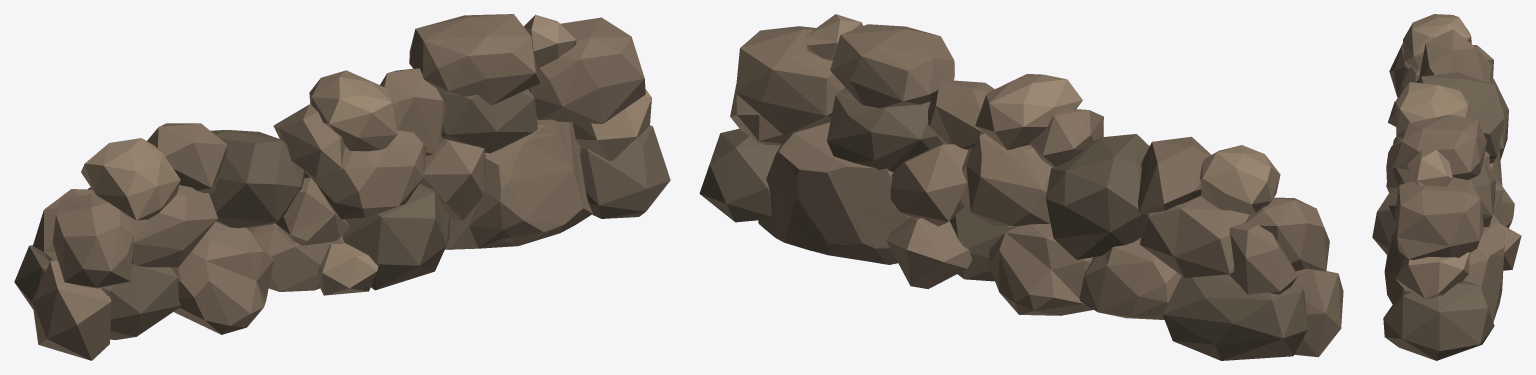
Rendered from Prop_StoneWall_01.glb.
The picture shows the model from 3 angles, left to right: view 1: azimuth 30°, elevation 25°; view 2: azimuth 150°, elevation 25°; view 3: azimuth 270°, elevation 25°; orthographic projection. The views are drawn at different scales.
Visible parts, largest first — view 1: SM_Prop_Stonewall_01_LOD0; view 2: SM_Prop_Stonewall_01_LOD0; view 3: SM_Prop_Stonewall_01_LOD0.
Part boxes in pixels (x1,y1,x2,y2): SM_Prop_Stonewall_01_LOD0: (14, 14, 670, 360); SM_Prop_Stonewall_01_LOD0: (699, 14, 1343, 360); SM_Prop_Stonewall_01_LOD0: (1372, 14, 1521, 360).
Bounding box in the file's own units: 2.74 × 0.9464 × 0.7005.
1 material, 1 textured.
